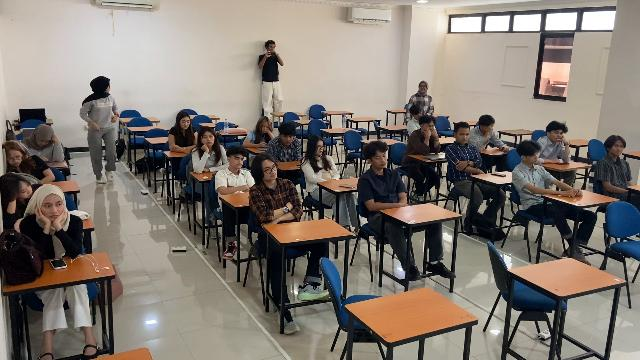bosan: (43, 199, 63, 221), (18, 182, 33, 198), (263, 163, 277, 179), (373, 152, 387, 168), (9, 150, 22, 166), (611, 141, 623, 155), (232, 154, 243, 168), (202, 133, 214, 145), (551, 130, 563, 142), (528, 151, 539, 163), (459, 130, 469, 143), (282, 134, 293, 145), (315, 140, 323, 155), (36, 140, 50, 148), (425, 122, 434, 133), (181, 118, 189, 130), (262, 123, 270, 133), (415, 111, 423, 118)
